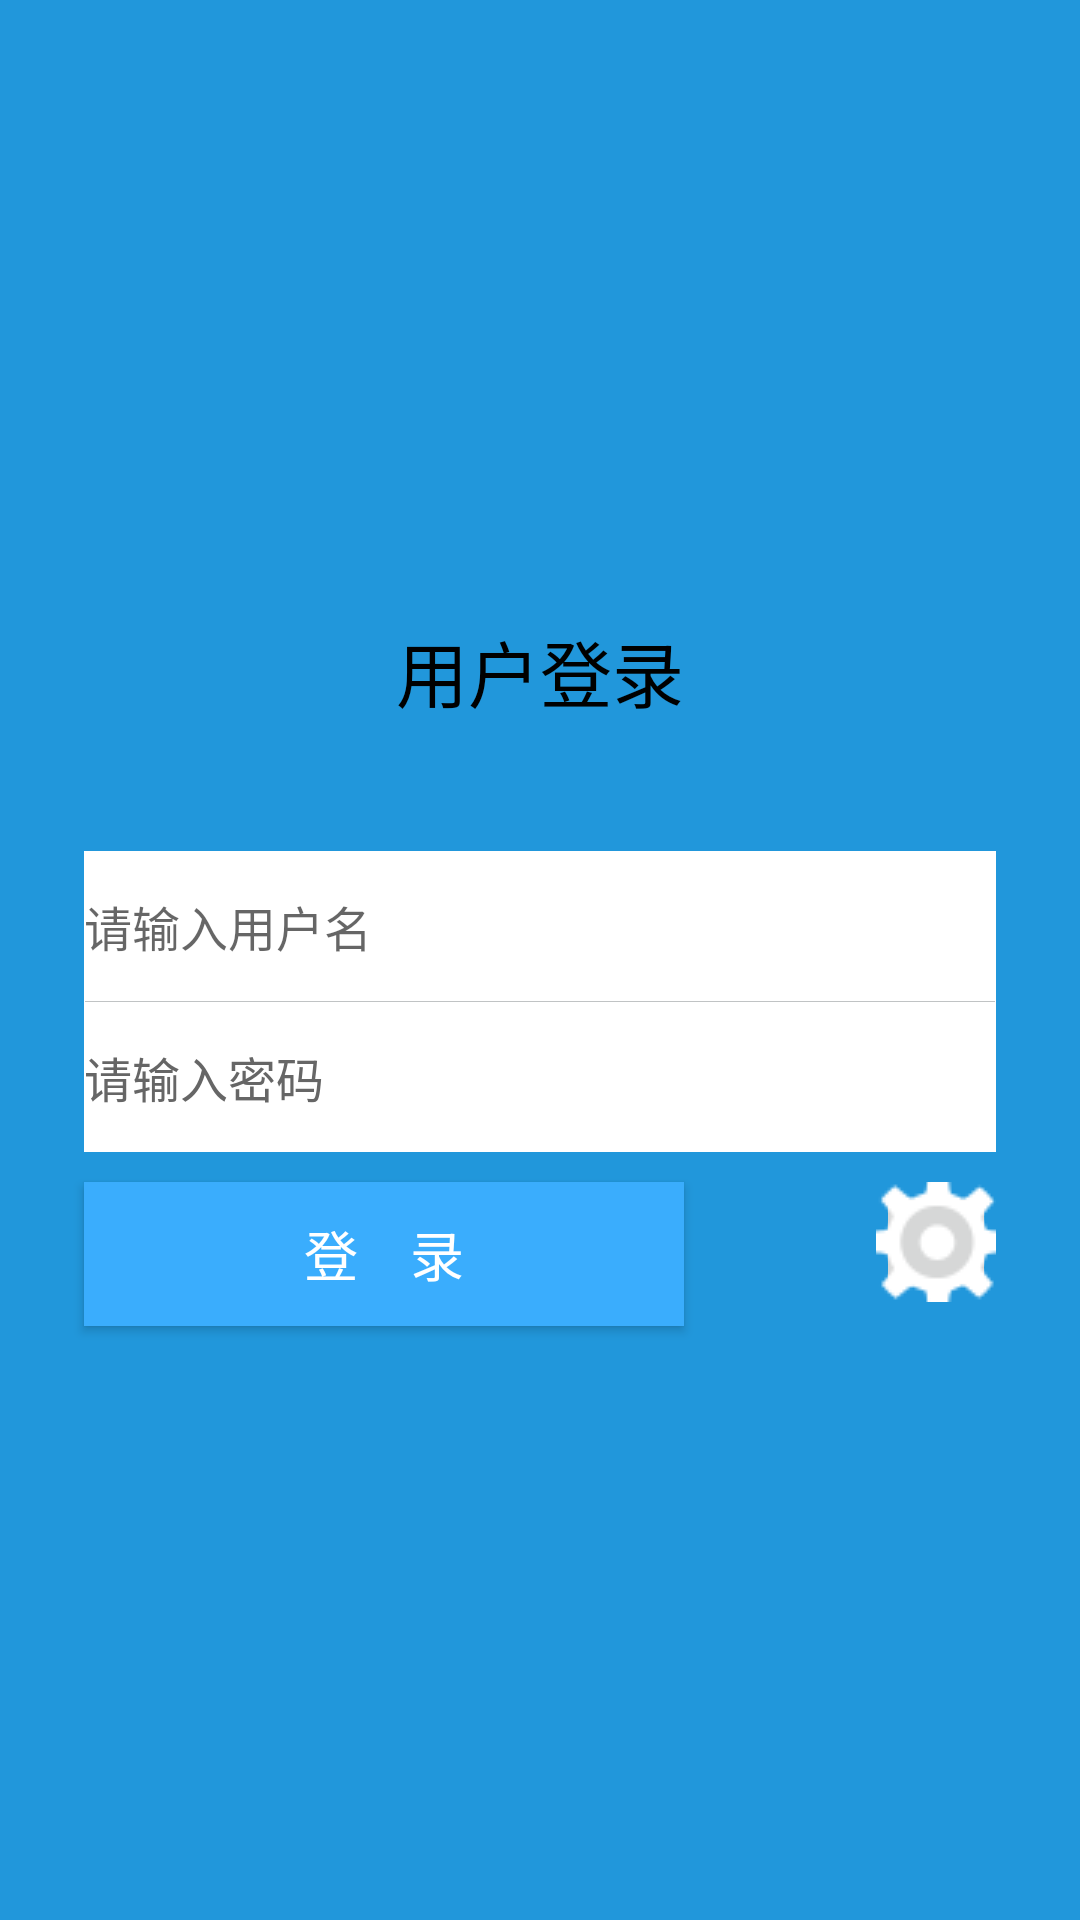

Named icons in this screenshot (1080 × 1920) and their centers, point (x, y):
controlman: point (936, 1242)
